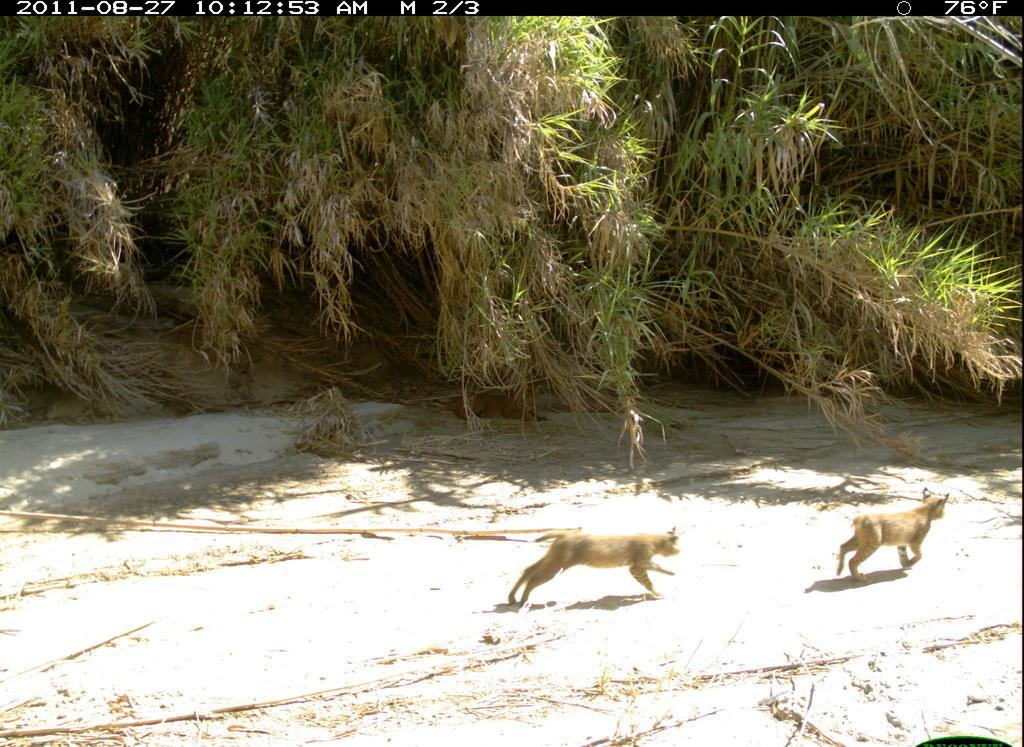bobcat: (510, 516, 689, 616), (833, 473, 968, 591)
